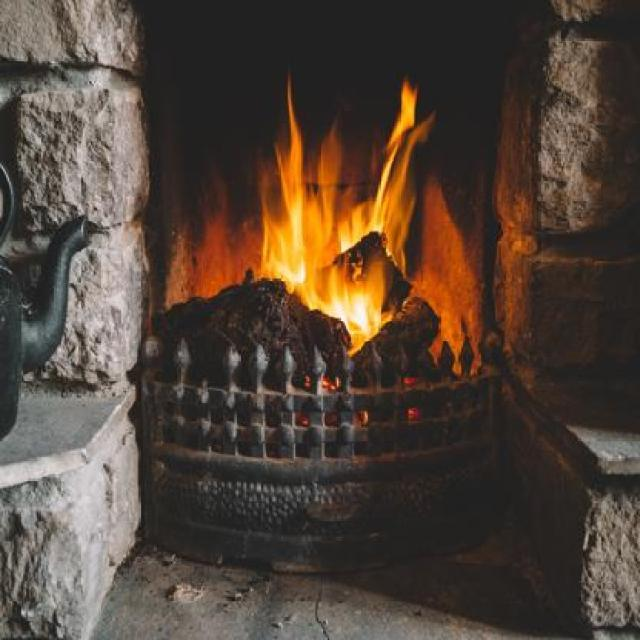Fire: (256, 68, 429, 362)
